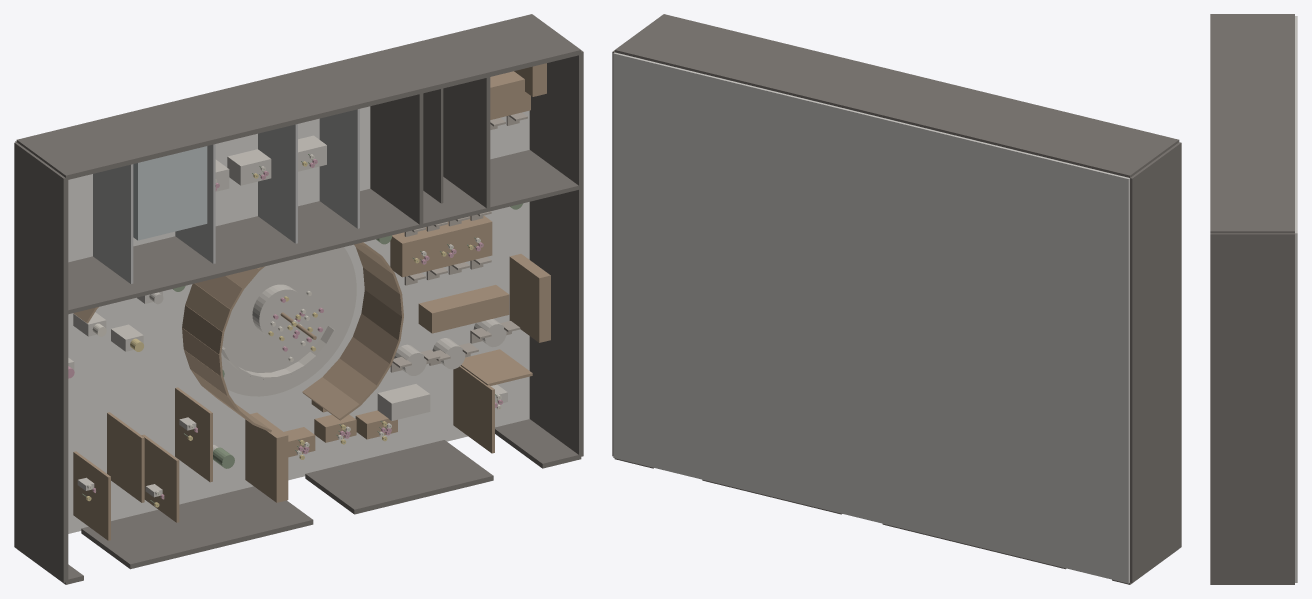
Rendered from Casa_Magnolia_V3_Virtual_Completa.glb.
3 renders of one model, left to right at view 1: azimuth 30°, elevation 25°; view 2: azimuth 150°, elevation 25°; view 3: azimuth 270°, elevation 25°, orthographic. The views are drawn at different scales.
Parts seen in each view (by area): view 1: Piso, N, W, E, BackF, HeartFloor, S1, S2, BackR, Frio, BathE, BD0 (+35 smaller); view 2: Piso, N, W, E; view 3: E, N, Piso.
Boxes of the visible parts, x1,y1,x2,y2 form: Piso: (15,106,529,533); N: (16,14,581,180); W: (14,142,68,582); E: (529,50,583,456); BackF: (66,188,421,314); HeartFloor: (221,247,356,396); S1: (81,486,313,569); S2: (305,440,493,514); BackR: (370,91,423,226); Frio: (133,146,207,240); BathE: (443,74,490,209); BD0: (93,164,133,283); Piso: (613,52,1129,583); N: (614,14,1179,177); W: (1130,142,1181,582); E: (612,50,614,456); E: (1210,233,1294,583); N: (1210,14,1294,233); Piso: (1295,16,1297,582).
Size of the model in its own units: 20.18 by 15.18 by 3.4.
